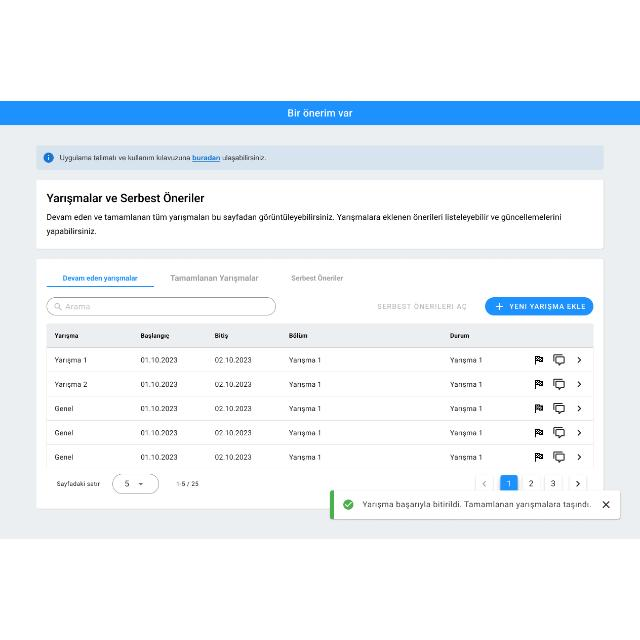QLabel: (45, 213, 562, 235), (45, 192, 207, 204), (376, 300, 468, 312), (59, 154, 191, 162), (168, 274, 260, 284), (282, 107, 356, 119), (508, 302, 586, 312), (61, 273, 139, 283), (289, 274, 349, 282), (192, 154, 220, 162), (222, 156, 268, 160)
VAlert: (36, 146, 604, 170)
VAppBar: (0, 101, 640, 125)
VBtn: (485, 296, 593, 316)
VCard: (36, 258, 604, 510), (36, 180, 604, 250)
VDataTable: (46, 324, 594, 500)
VIcon: (494, 302, 504, 312), (43, 152, 53, 162)
VTabs: (40, 264, 600, 508)
VTextField: (48, 298, 276, 316)
